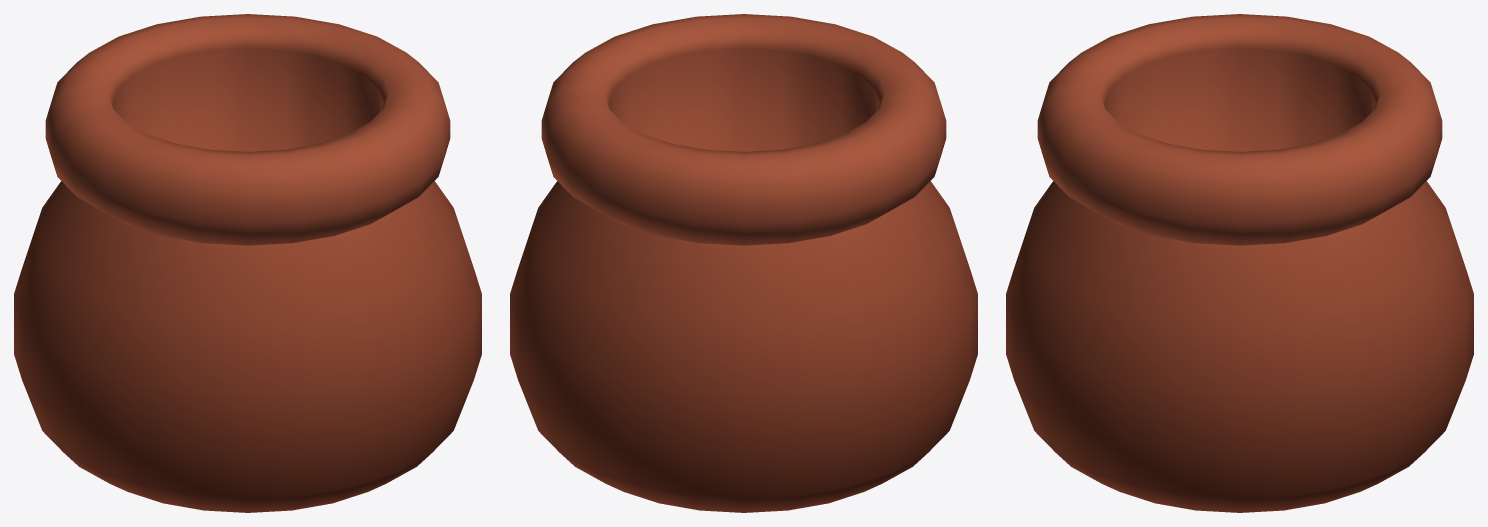
The model's file is Bowl_002.fbx.
The picture shows the model from 3 angles, left to right: view 1: azimuth 30°, elevation 25°; view 2: azimuth 150°, elevation 25°; view 3: azimuth 270°, elevation 25°; orthographic projection.
Parts seen in each view (by area): view 1: Bowl_002; view 2: Bowl_002; view 3: Bowl_002.
Boxes of the visible parts, box(x1,y1,x2,y2) form: Bowl_002: box(14, 14, 481, 512); Bowl_002: box(510, 14, 977, 512); Bowl_002: box(1006, 14, 1473, 512).
Bounding box in the file's own units: 0.1739 × 0.148 × 0.1739.
